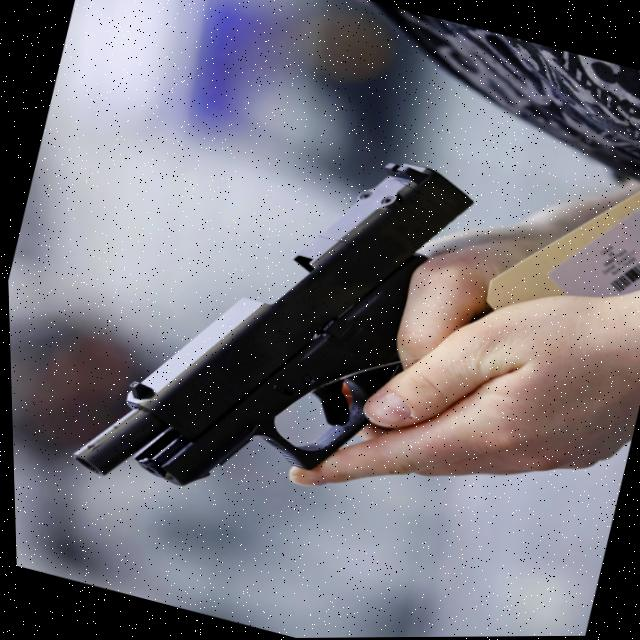pistol: (58, 93, 486, 552)
